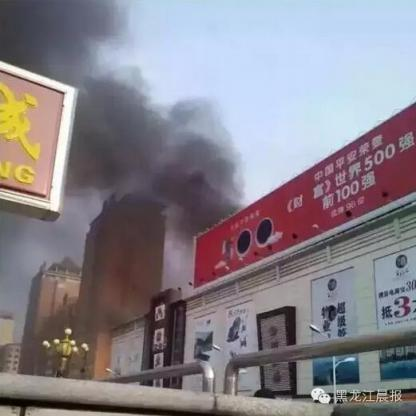smoke: (66, 81, 162, 193), (164, 100, 244, 230), (0, 0, 123, 76)
